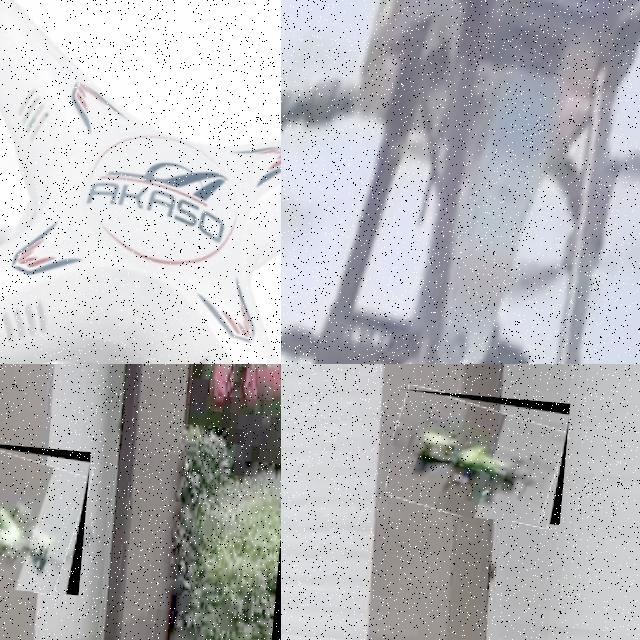drone: (281, 0, 640, 364), (0, 0, 281, 364), (386, 388, 570, 524), (0, 438, 90, 595)
